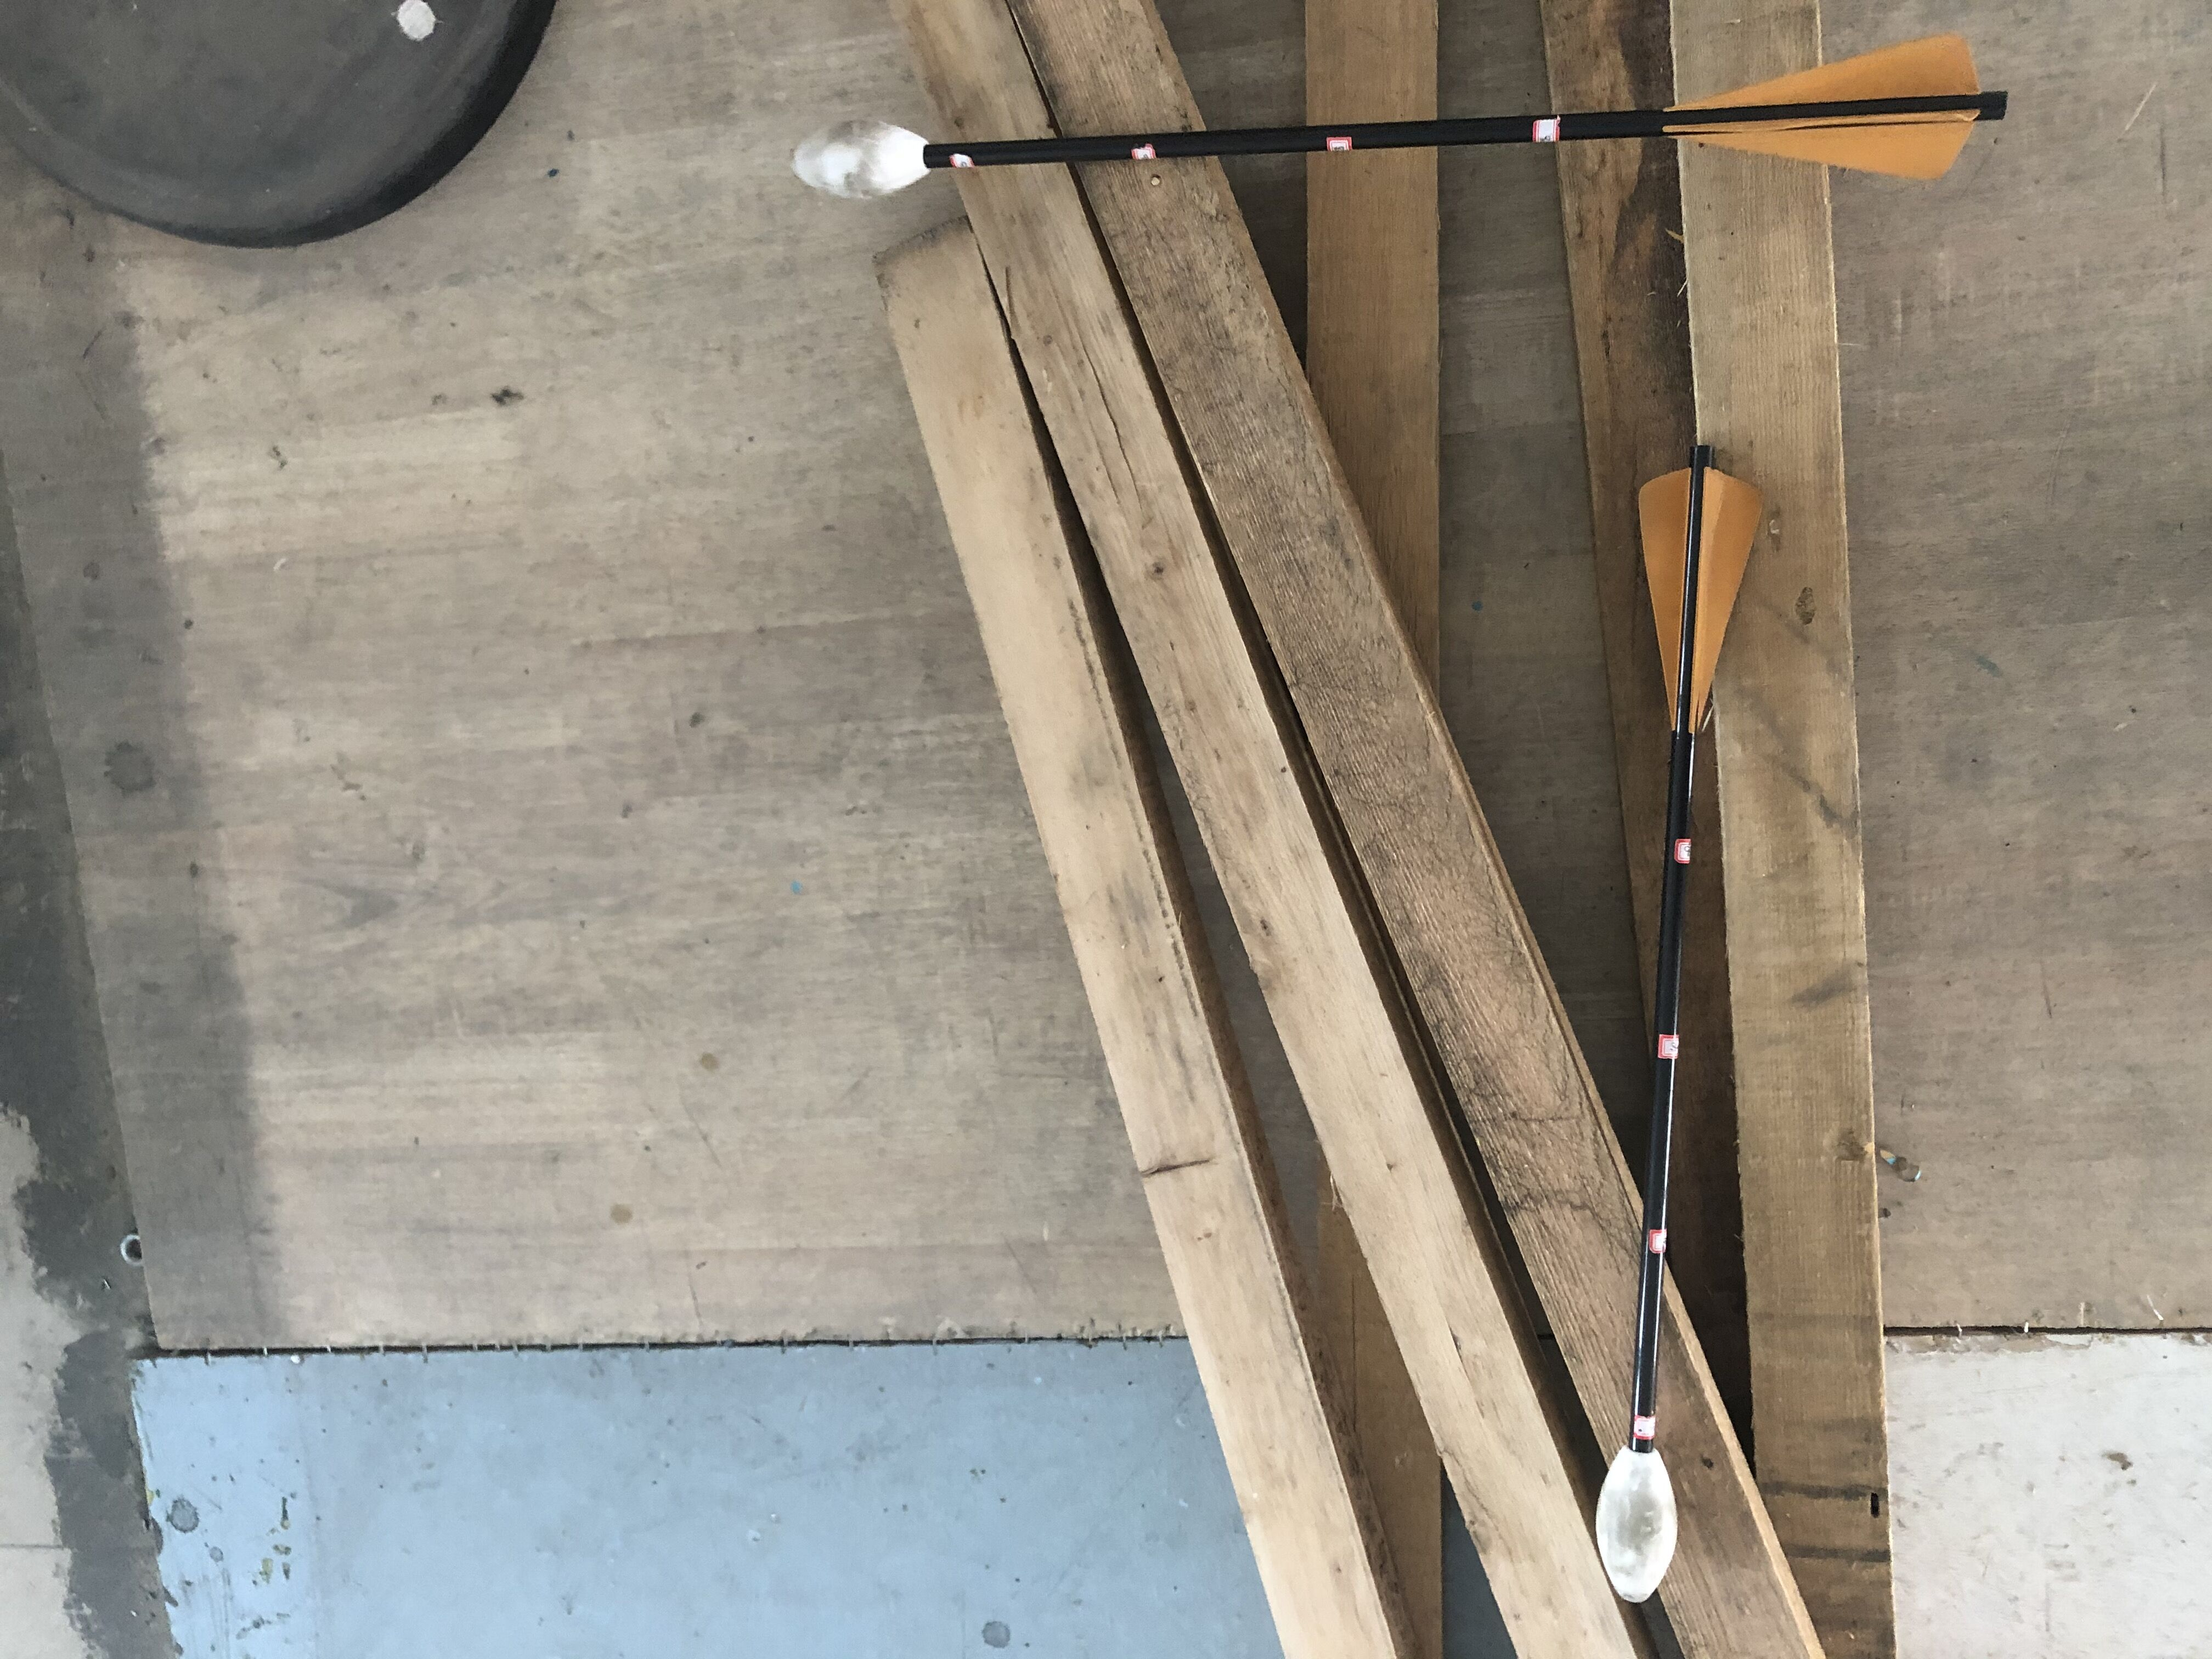arrow: (789, 33, 2015, 199), (1592, 444, 1761, 1603)
arrowFront: (1592, 1436, 1683, 1608), (789, 112, 932, 199)
